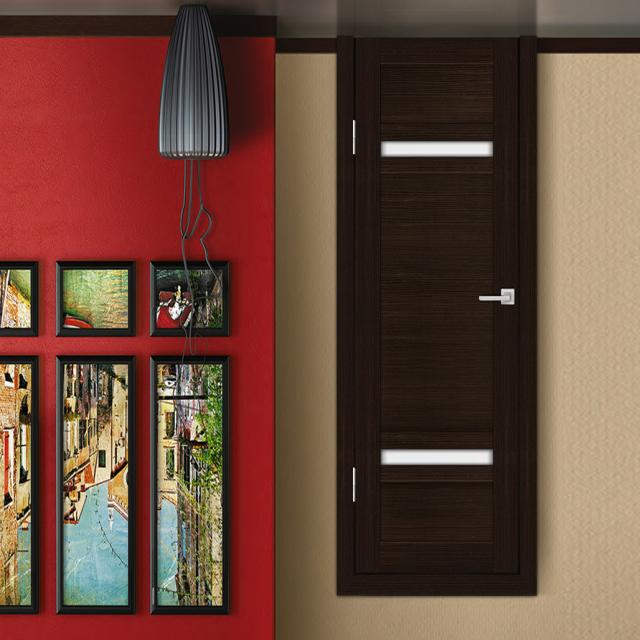close: (342, 63, 536, 588)
